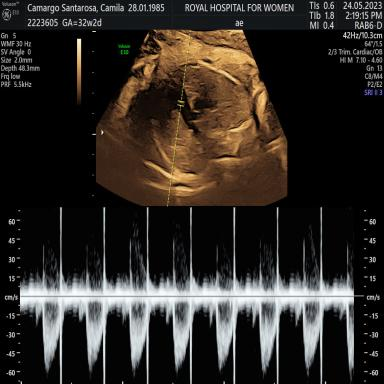Ultrasound-Waves: (28, 206, 353, 384)
